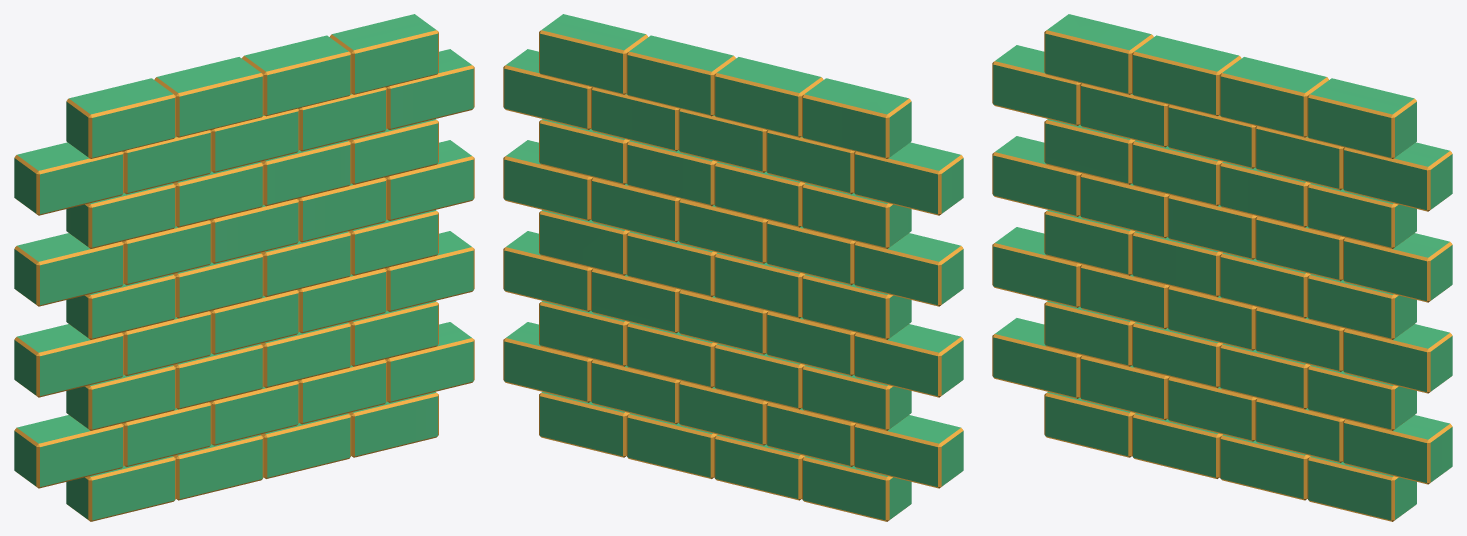
The model's file is KüpDikeyEngel.fbx.
3 views of the same model, side by side, from view 1: azimuth 30°, elevation 25°; view 2: azimuth 150°, elevation 25°; view 3: azimuth 330°, elevation 25° (orthographic).
Parts seen in each view (by area): view 1: KüpEngel.005, KüpEngel.013, KüpEngel.026, KüpEngel.037, KüpEngel.031, KüpEngel.007, KüpEngel.006, KüpEngel.008, KüpEngel.001, KüpEngel.009, KüpEngel.022, KüpEngel.018 (+28 smaller); view 2: KüpEngel.005, KüpEngel.013, KüpEngel.026, KüpEngel.037, KüpEngel.031, KüpEngel.007, KüpEngel.006, KüpEngel.008, KüpEngel.001, KüpEngel.009, KüpEngel.022, KüpEngel.018 (+28 smaller); view 3: KüpEngel.008, KüpEngel.007, KüpEngel.006, KüpEngel.005, KüpEngel.017, KüpEngel.040, KüpEngel.030, KüpEngel.035, KüpEngel.026, KüpEngel.012, KüpEngel.037, KüpEngel.004 (+28 smaller).
Part boxes in pixels (x1,y1,x2,y2): KüpEngel.005: (66, 78, 175, 158); KüpEngel.013: (14, 415, 123, 488); KüpEngel.026: (14, 233, 123, 306); KüpEngel.037: (14, 324, 123, 397); KüpEngel.031: (14, 142, 123, 215); KüpEngel.007: (242, 35, 351, 116); KüpEngel.006: (154, 57, 263, 137); KüpEngel.008: (329, 14, 438, 94); KüpEngel.001: (66, 183, 175, 248); KüpEngel.009: (66, 456, 175, 521); KüpEngel.022: (66, 274, 175, 339); KüpEngel.018: (66, 365, 175, 430); KüpEngel.005: (802, 78, 911, 158); KüpEngel.013: (854, 415, 963, 488); KüpEngel.026: (854, 233, 963, 306); KüpEngel.037: (854, 324, 963, 397); KüpEngel.031: (854, 142, 963, 215); KüpEngel.007: (626, 35, 735, 116); KüpEngel.006: (714, 57, 823, 137); KüpEngel.008: (539, 14, 648, 94); KüpEngel.001: (802, 183, 911, 248); KüpEngel.009: (802, 456, 911, 521); KüpEngel.022: (802, 274, 911, 339); KüpEngel.018: (802, 365, 911, 430); KüpEngel.008: (1307, 78, 1416, 158); KüpEngel.007: (1219, 57, 1328, 137); KüpEngel.006: (1132, 35, 1241, 115); KüpEngel.005: (1044, 14, 1153, 94); KüpEngel.017: (1343, 415, 1452, 484); KüpEngel.040: (1343, 324, 1452, 393); KüpEngel.030: (1343, 233, 1452, 302); KüpEngel.035: (1343, 142, 1452, 211); KüpEngel.026: (992, 136, 1081, 216); KüpEngel.012: (1307, 456, 1416, 521); KüpEngel.037: (992, 227, 1081, 307); KüpEngel.004: (1307, 183, 1416, 248).
Size of the model in its own units: 430 by 382 by 42.05.
